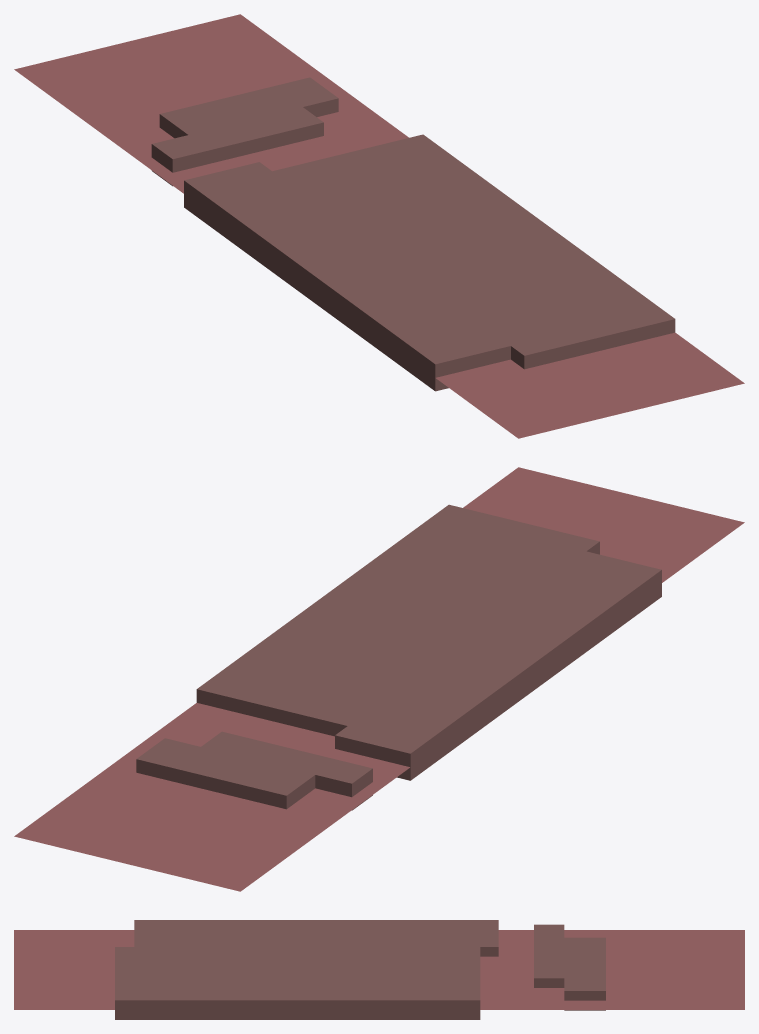
File: Tile_Magma_01.fbx
The picture shows the model from 3 angles, top to bottom: view 1: azimuth 30°, elevation 25°; view 2: azimuth 150°, elevation 25°; view 3: azimuth 270°, elevation 25°; orthographic projection. The views are drawn at different scales.
Parts seen in each view (by area): view 1: pCube1, pPlane1, polySurface1; view 2: pCube1, pPlane1, polySurface1; view 3: pCube1, pPlane1, polySurface1.
Part boxes in pixels (x1,y1,x2,y2): pCube1: [184, 134, 675, 391]; pPlane1: [14, 14, 744, 438]; polySurface1: [151, 77, 338, 186]; pCube1: [196, 504, 661, 780]; pPlane1: [14, 467, 744, 891]; polySurface1: [136, 731, 372, 810]; pCube1: [115, 920, 498, 1019]; pPlane1: [14, 930, 744, 1009]; polySurface1: [534, 924, 605, 1010].
Bounding box in the file's own units: 35 × 4 × 135.
